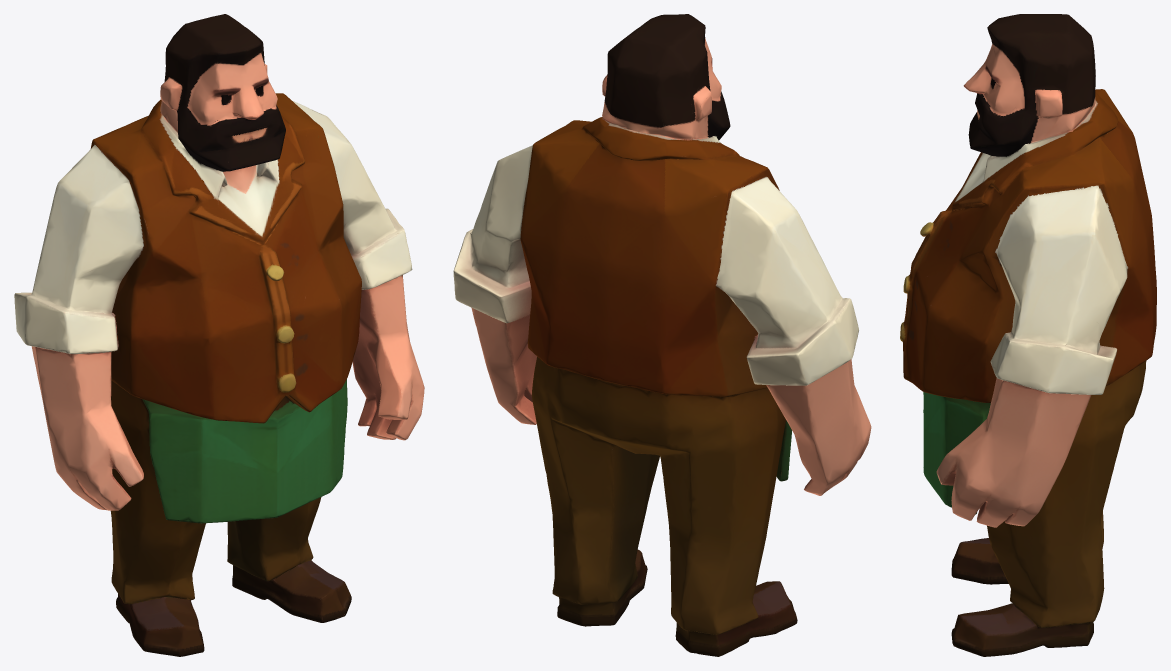
File: tendero.glb
The picture shows the model from 3 angles, left to right: view 1: azimuth 30°, elevation 25°; view 2: azimuth 150°, elevation 25°; view 3: azimuth 270°, elevation 25°; orthographic projection.
Visible parts, largest first — view 1: world; view 2: world; view 3: world.
Boxes of the visible parts, x1=… form: world: x1=14, y1=14, x2=424, y2=656; world: x1=453, y1=14, x2=871, y2=656; world: x1=900, y1=14, x2=1156, y2=656.
Size of the model in its own units: 0.6891 by 1 by 0.4.
Materials: 1 (1 with a texture image).
